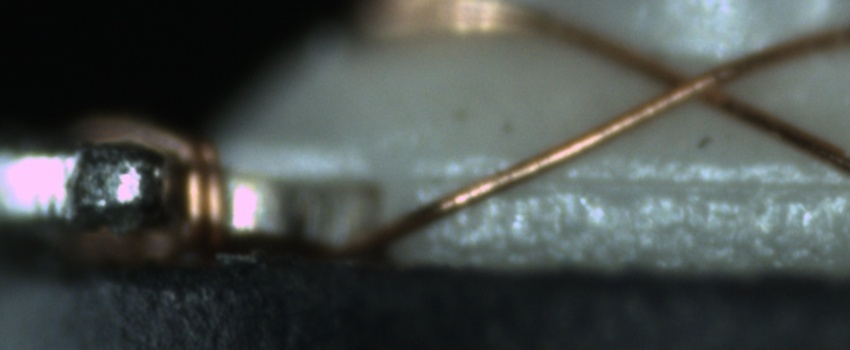CL: (645, 53, 740, 115)
DL: (420, 153, 850, 211)
TE: (74, 110, 246, 265)
